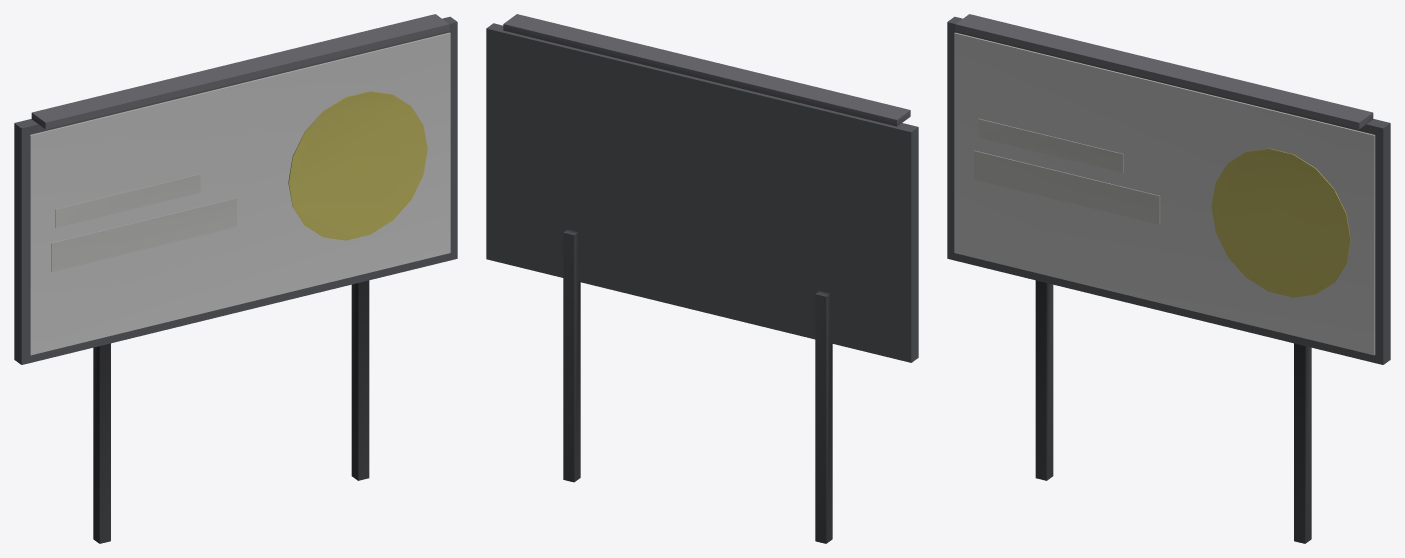
Rendered from werbetafel.glb.
3 views of the same model, side by side, from view 1: azimuth 30°, elevation 25°; view 2: azimuth 150°, elevation 25°; view 3: azimuth 330°, elevation 25° (orthographic). The views are drawn at different scales.
Visible parts, largest first — view 1: farbe, lack; view 2: lack; view 3: farbe, lack.
Boxes of the visible parts, box(x1,y1,x2,y2) form: farbe: box(29, 32, 450, 355); lack: box(14, 14, 457, 543); lack: box(486, 14, 918, 543); farbe: box(954, 32, 1375, 355); lack: box(947, 14, 1390, 543).
Size of the model in its own units: 5.4 by 5.29 by 0.4199.
